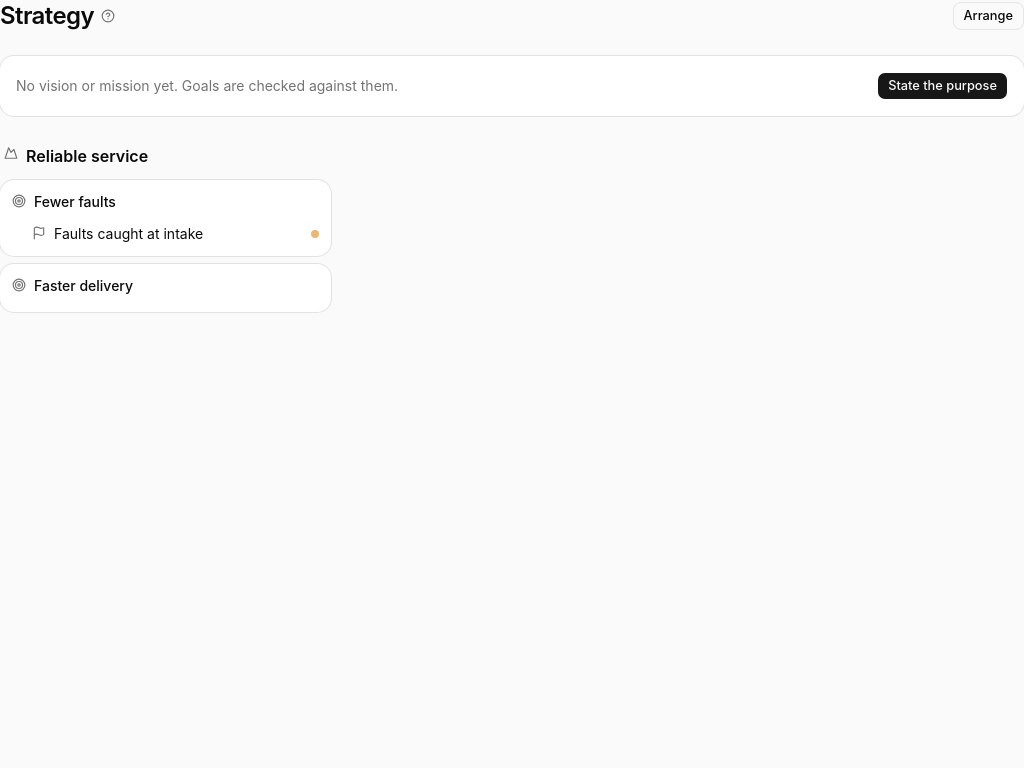
it: StrategyView › opens an outcome's gaps, from current to desired, and what else it leads to
Step 1. Click the button "Faults caught at intake" → x=165, y=234, box top-left (8, 220), bottom-right (323, 248)
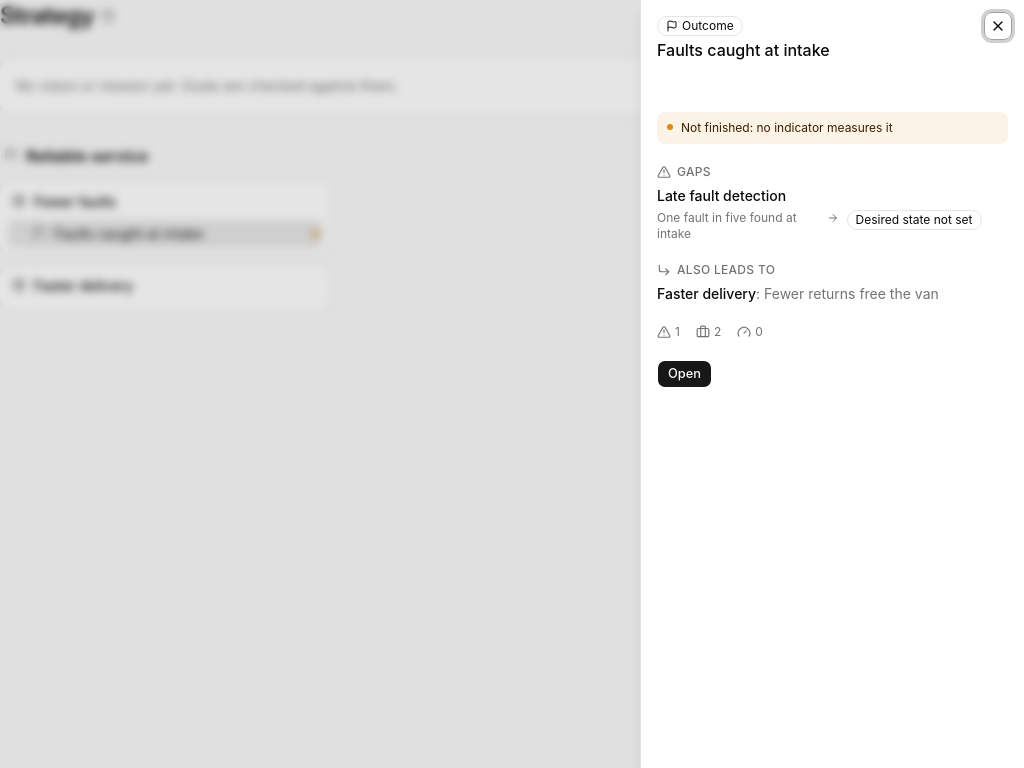
Check: the link "Late fault detection" is shown, box top-left (657, 187), bottom-right (786, 204)
Check: the text "One fault in five found at intake" is shown, box top-left (657, 210), bottom-right (818, 242)
Check: the text "Desired state not set" is shown, box top-left (846, 210), bottom-right (982, 230)
